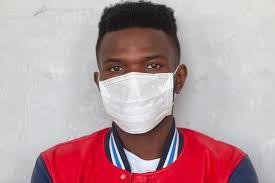Wearing Mask: (93, 0, 190, 134)
